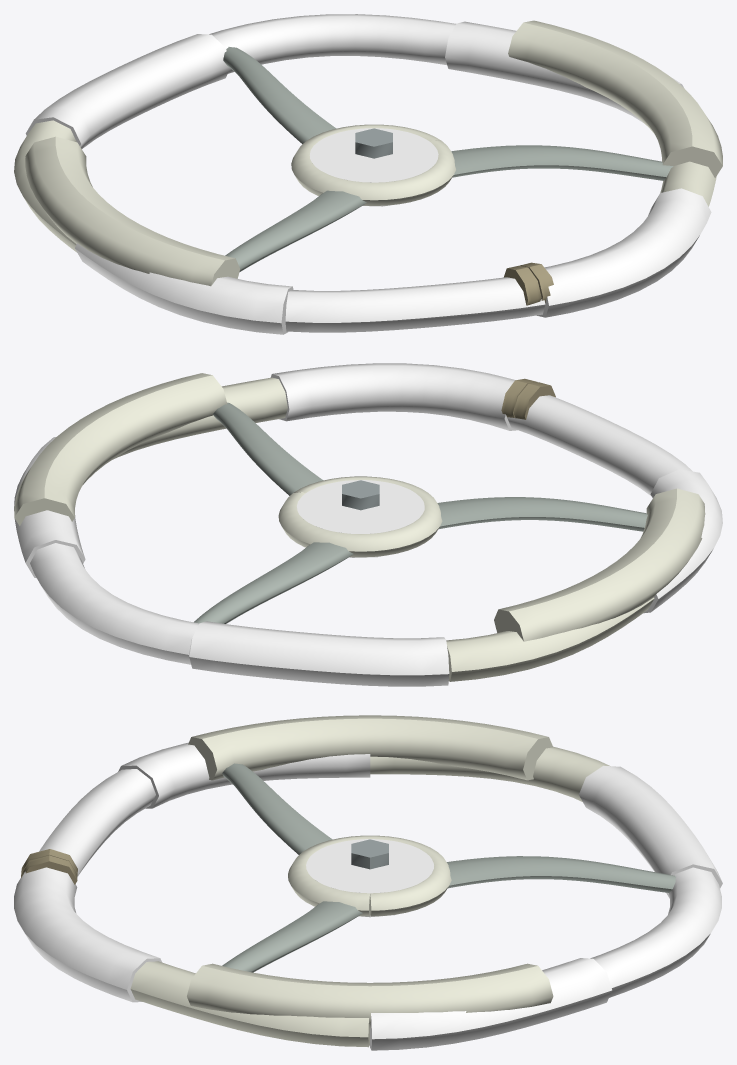
Rendered from Wheel_15_R_深緑・銀襟.glb.
The picture shows the model from 3 angles, top to bottom: view 1: azimuth 30°, elevation 25°; view 2: azimuth 150°, elevation 25°; view 3: azimuth 270°, elevation 25°; orthographic projection.
Parts seen in each view (by area): view 1: Wheel_15_R; view 2: Wheel_15_R; view 3: Wheel_15_R.
Part boxes in pixels (x1,y1,x2,y2): Wheel_15_R: (14,14,722,334); Wheel_15_R: (14,363,722,686); Wheel_15_R: (14,715,722,1050).
Size of the model in its own units: 0.3274 by 0.0299 by 0.327.
4 materials, 4 textured.
